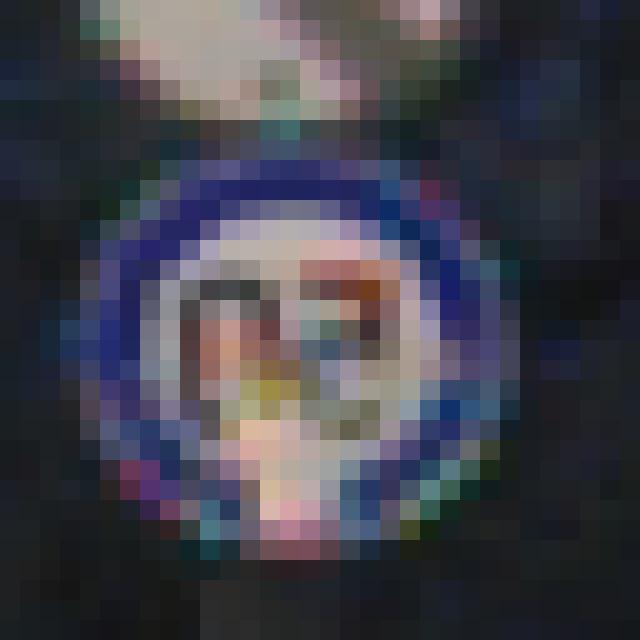SPEED LIMIT 50: (136, 212, 458, 530)
